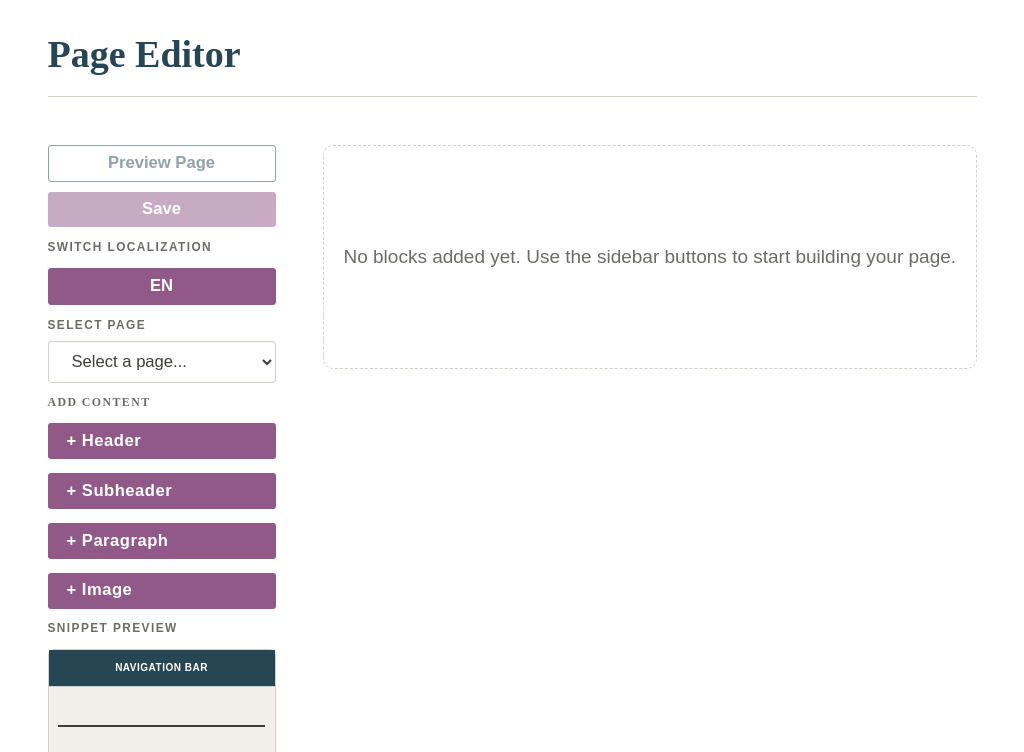
Page Editor workflow › loads pages and displays the selected page content in the correct bilingual fields
The image size is (1024, 752).
Check: the button "Save" is disabled, box top-left (48, 192), bottom-right (276, 227)
Select "Home" in the dropdown at (162, 362), box top-left (48, 341), bottom-right (276, 383)
(page scrolled)
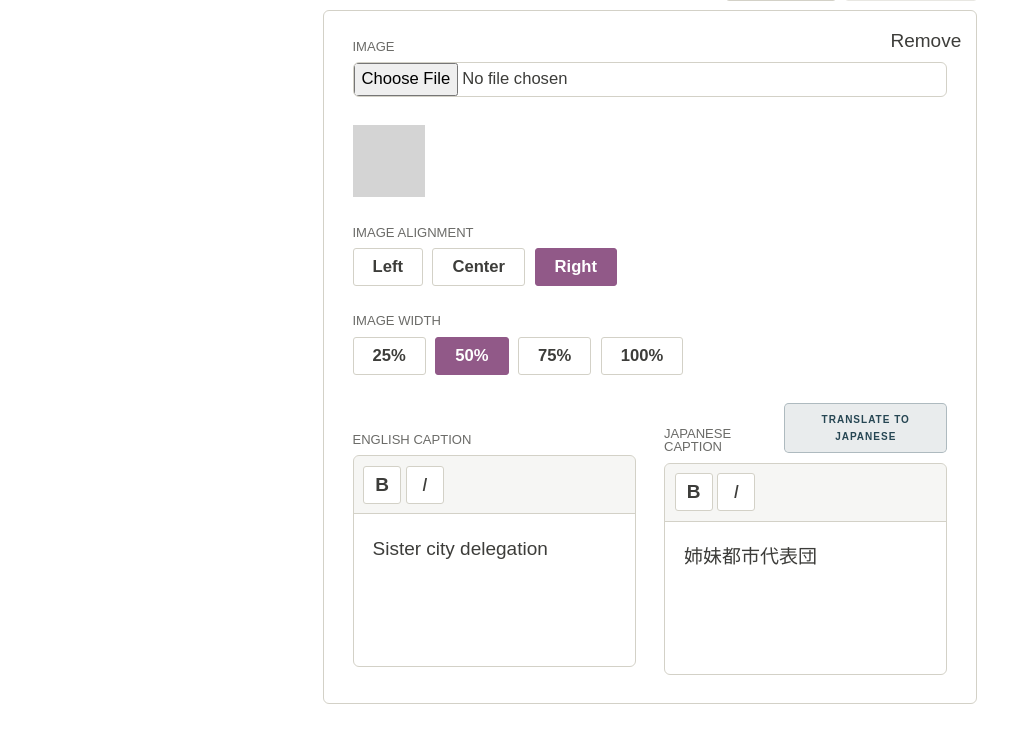
Check: the field named "English Caption" reads "Sister city delegation", box top-left (372, 538), bottom-right (548, 559)
Check: the field named "Japanese Caption" reads "姉妹都市代表団", box top-left (684, 546), bottom-right (817, 567)
